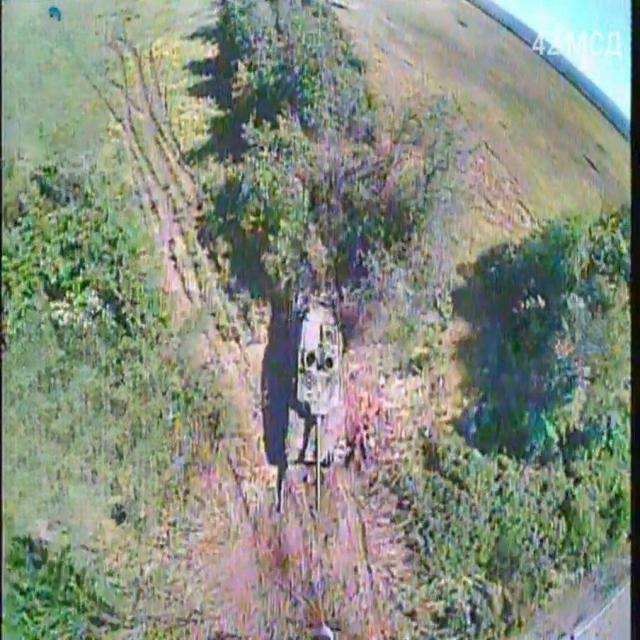MBT: (278, 270, 348, 515)
